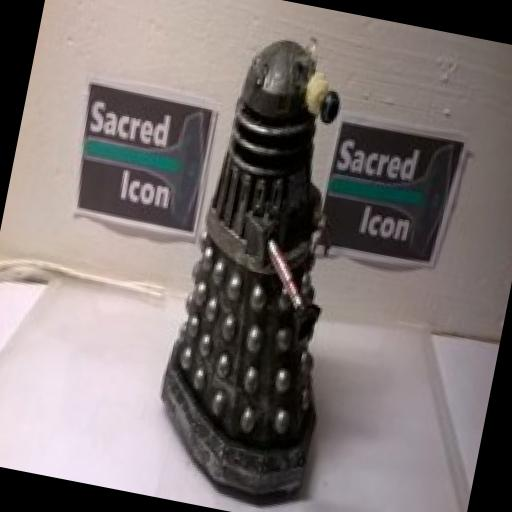dalek: (138, 21, 392, 512)
